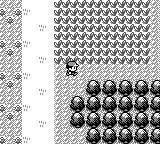captura: (54, 0, 150, 64)
main: (66, 61, 79, 76)
no-caminable: (70, 81, 159, 143)
